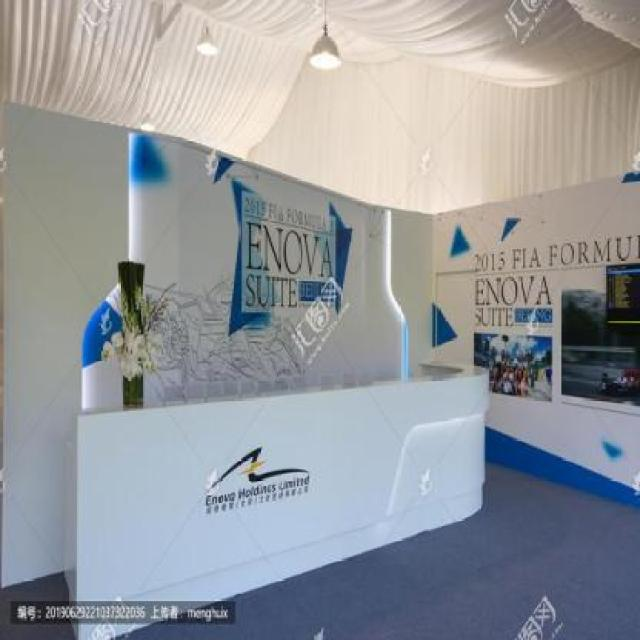frontdesk: (59, 356, 496, 636)
